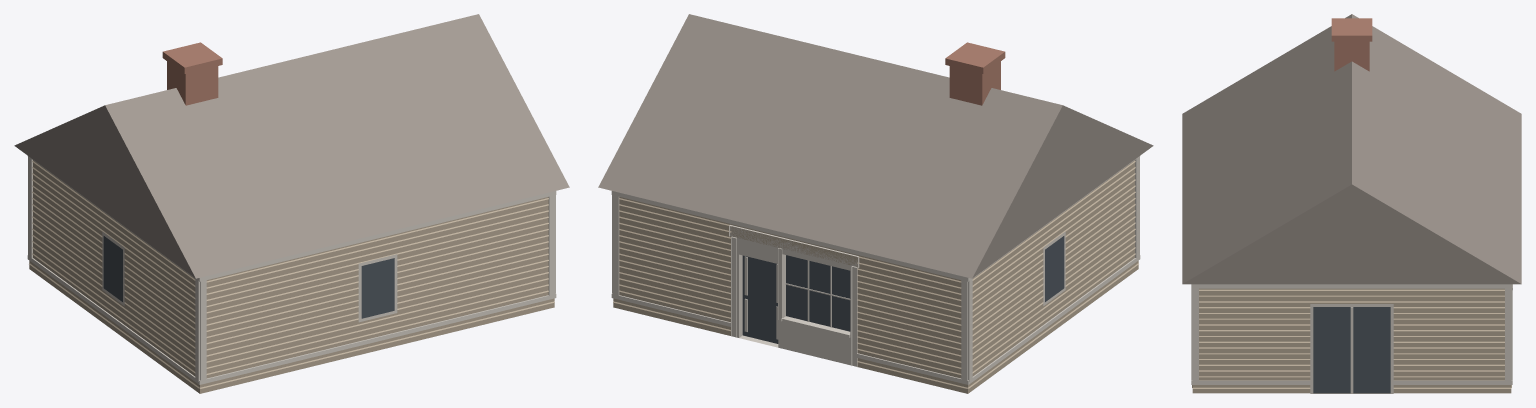
The model's file is john_holbrook_store__frame_1835.glb.
The picture shows the model from 3 angles, left to right: view 1: azimuth 30°, elevation 25°; view 2: azimuth 150°, elevation 25°; view 3: azimuth 270°, elevation 25°; orthographic projection. The views are drawn at different scales.
Visible parts, largest first — view 1: john_holbrook_store__frame_1835; view 2: john_holbrook_store__frame_1835; view 3: john_holbrook_store__frame_1835.
Boxes of the visible parts, bbox=[...] form: john_holbrook_store__frame_1835: bbox=[14, 14, 569, 393]; john_holbrook_store__frame_1835: bbox=[598, 14, 1153, 393]; john_holbrook_store__frame_1835: bbox=[1182, 14, 1521, 393].
Size of the model in its own units: 9.64 by 6.35 by 8.12.
